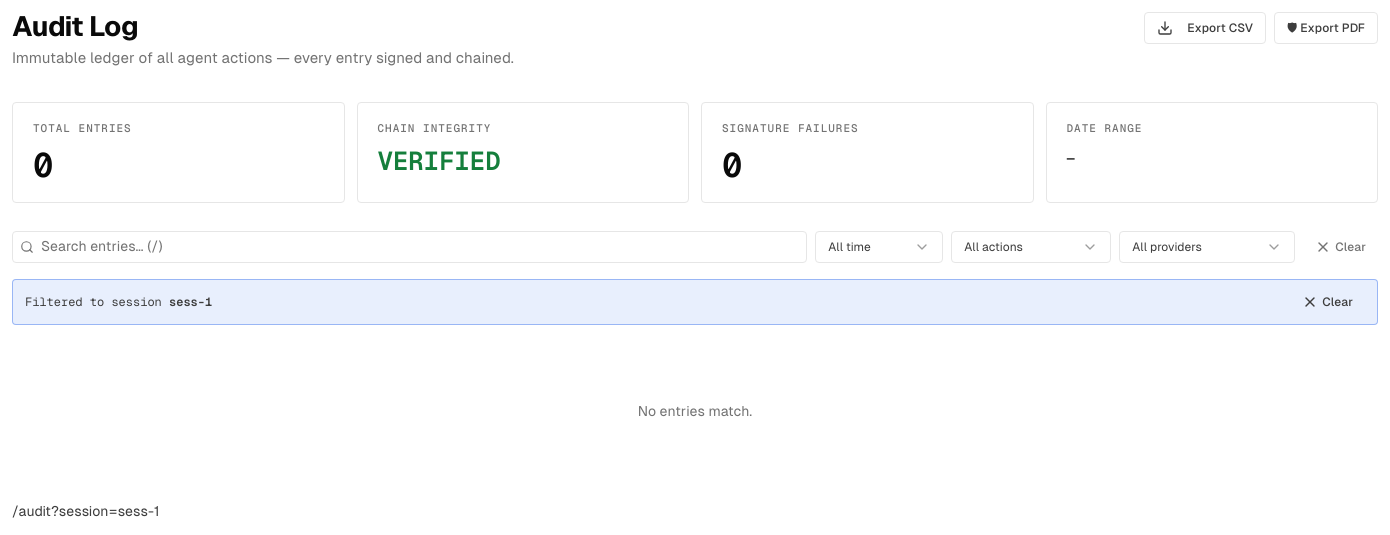
it: AuditLogPage — filters › shows the inbound session banner, widens the window, and clears it
Check: the text "Filtered to session sess-1" is shown, box [25, 294, 212, 310]
Check: the text "sess-1" is shown, box [169, 294, 212, 310]
# The banner's Clear strips the URL param.
Click the button "Clear" in the row of "Filtered to session" at (1328, 302), box [1290, 288, 1365, 316]
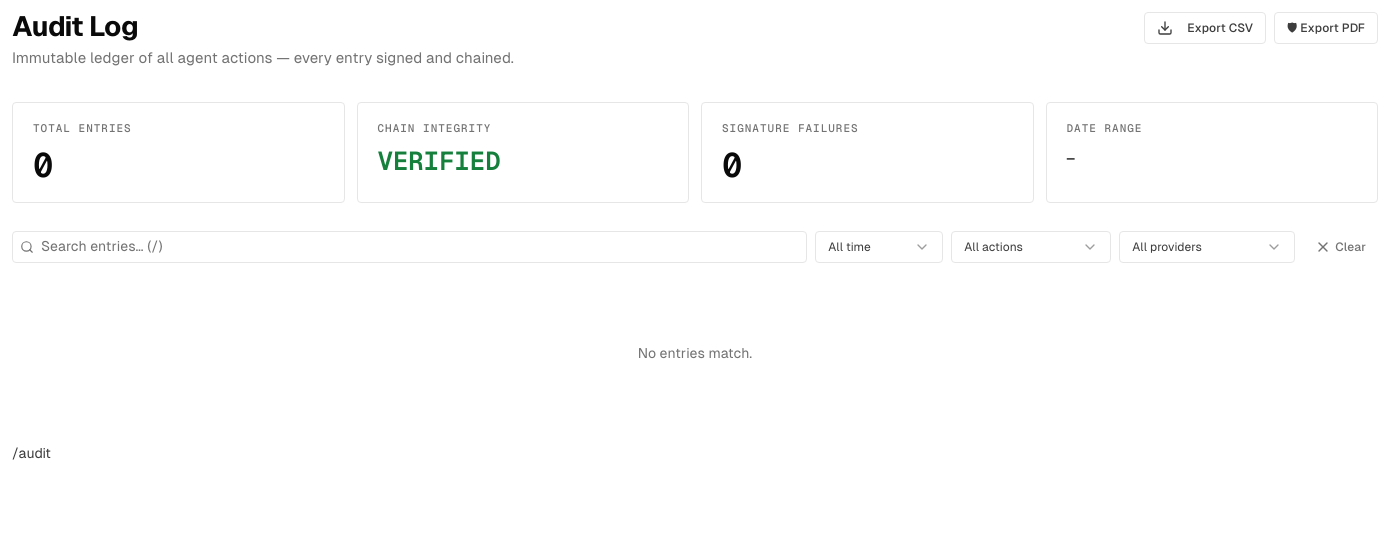
Check: the text with test id "loc" reads "/audit", box [12, 445, 51, 461]
